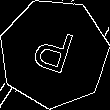P_S: (28, 24, 79, 83)
